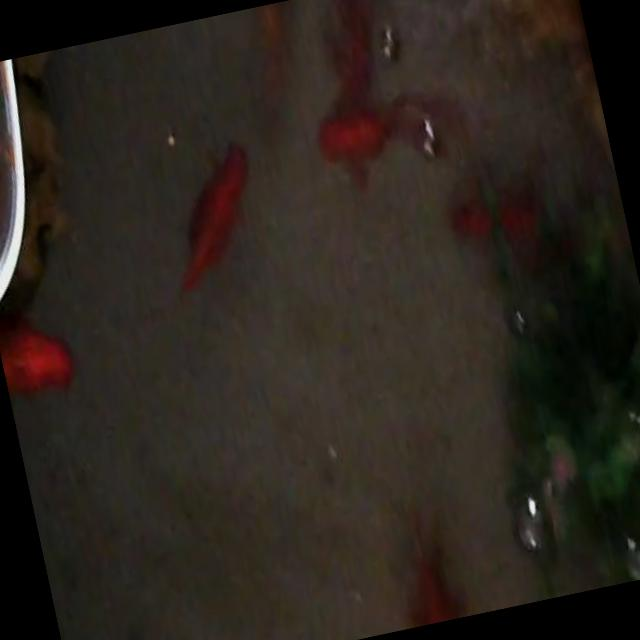fish: (150, 136, 275, 300), (316, 90, 442, 192), (0, 297, 99, 426), (447, 168, 552, 276), (393, 528, 483, 628)
